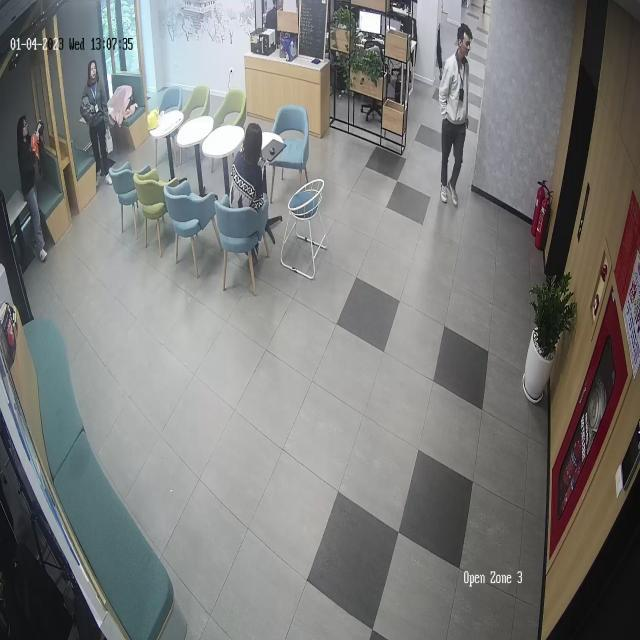person: (229, 121, 279, 257), (438, 23, 473, 209), (17, 114, 48, 264), (80, 60, 116, 184)
